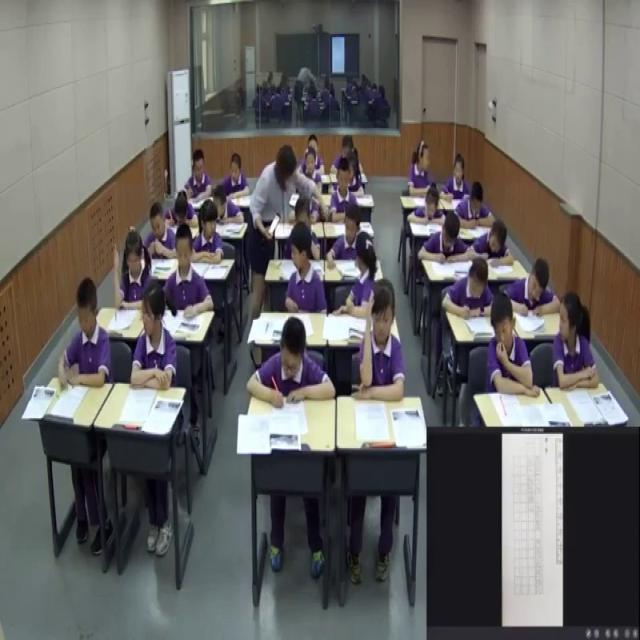distracted: (129, 278, 179, 396), (483, 289, 537, 396), (553, 288, 600, 391), (283, 221, 326, 313), (341, 231, 378, 317), (195, 200, 224, 263), (407, 138, 436, 195), (212, 185, 246, 227)
focused: (248, 316, 338, 408), (60, 275, 111, 387), (167, 226, 215, 314), (442, 258, 500, 321), (508, 253, 563, 315), (420, 212, 476, 264), (470, 212, 515, 270), (328, 203, 371, 263), (144, 201, 182, 264), (440, 150, 475, 208), (331, 159, 361, 223), (456, 180, 495, 229), (408, 185, 448, 227), (183, 152, 214, 204), (219, 149, 249, 198), (167, 190, 200, 234), (302, 143, 326, 198)
raising_hand: (355, 280, 408, 405), (112, 230, 154, 308)
